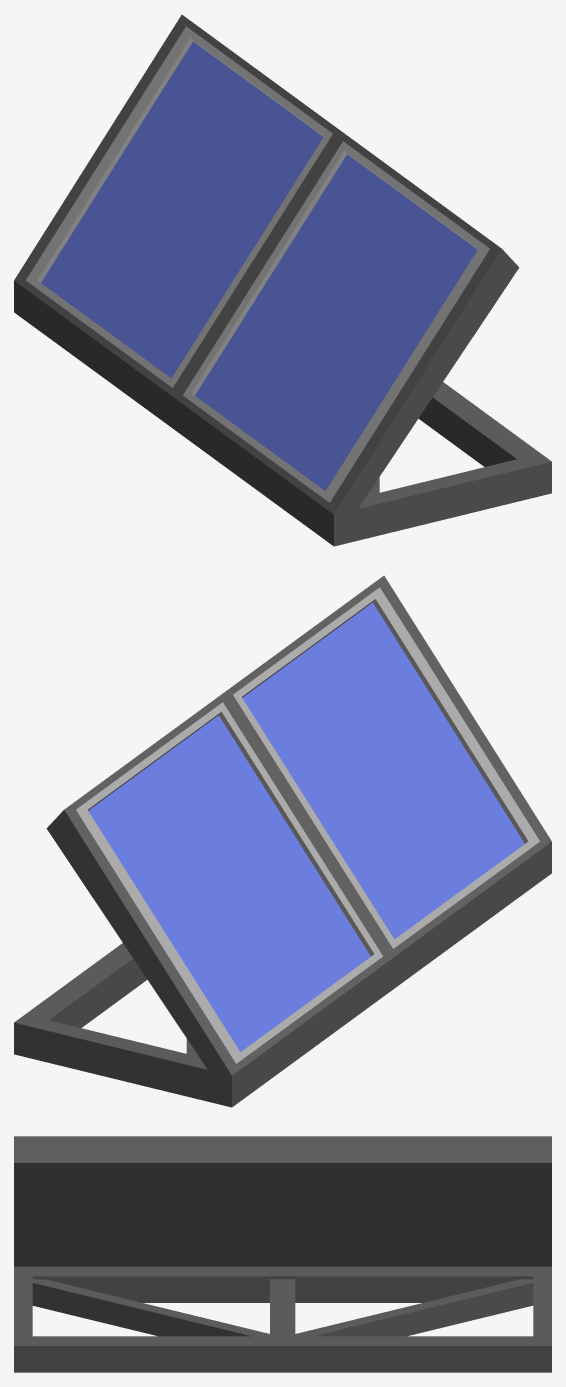
File: solarPanel.glb
The picture shows the model from 3 angles, top to bottom: view 1: azimuth 30°, elevation 25°; view 2: azimuth 150°, elevation 25°; view 3: azimuth 270°, elevation 25°; orthographic projection. The views are drawn at different scales.
Visible parts, largest first — view 1: Solar Panel; view 2: Solar Panel; view 3: Solar Panel.
Part boxes in pixels (bbox=[...]): Solar Panel: bbox=[14, 14, 551, 546]; Solar Panel: bbox=[14, 575, 551, 1107]; Solar Panel: bbox=[14, 1136, 551, 1372].
Bounding box in the file's own units: 0.7866 × 0.8861 × 2.
